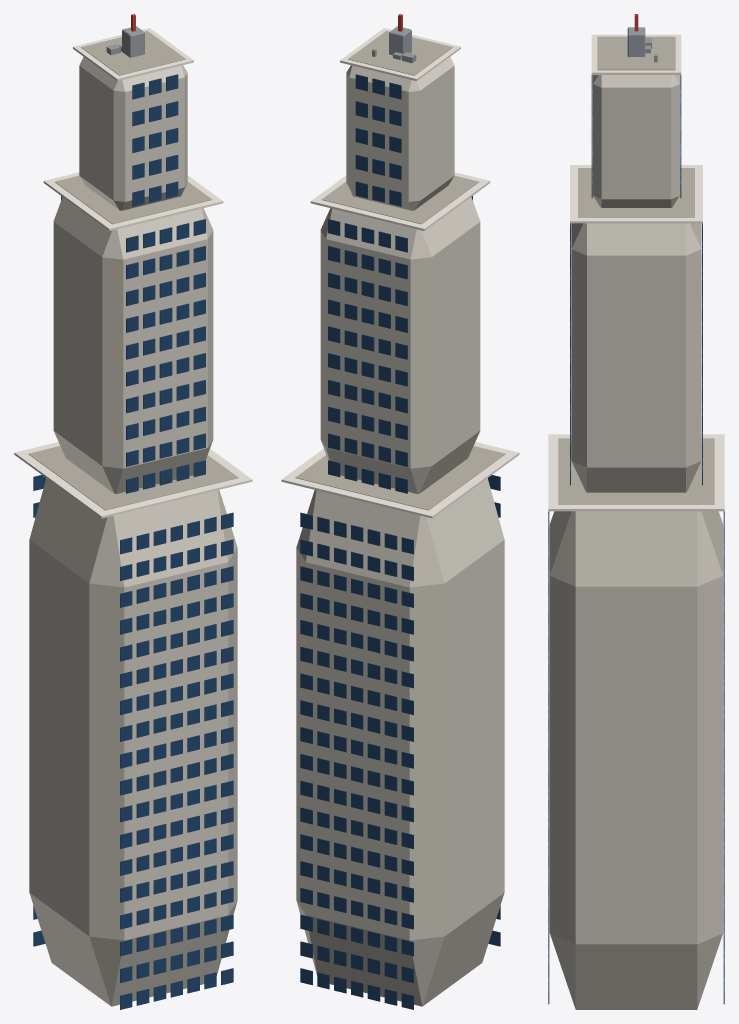
File: tower_setback_h130.glb
3 views of the same model, side by side, from view 1: azimuth 30°, elevation 25°; view 2: azimuth 150°, elevation 25°; view 3: azimuth 270°, elevation 25° (orthographic).
Parts seen in each view (by area): view 1: t1, t2, t3, tierroof, tierlip, tierroof.001, tierroof.002, tierlip.001, tierlip.002, mast; view 2: t1, t2, t3, tierroof, tierlip, tierroof.001, tierroof.002, tierlip.001, tierlip.002, mast; view 3: t1, t2, t3, tierroof, tierlip, tierroof.001, tierroof.002, tierlip.001, tierlip.002, mast.
Part boxes in pixels (x1,y1,x2,y2): t1: [29, 478, 237, 1006]; t2: [53, 197, 213, 493]; t3: [79, 56, 187, 210]; tierroof: [28, 446, 238, 510]; tierlip: [14, 442, 252, 518]; tierroof.001: [55, 175, 212, 224]; tierroof.002: [81, 31, 185, 75]; tierlip.001: [43, 172, 223, 230]; tierlip.002: [73, 28, 193, 81]; mast: [122, 26, 144, 57]; t1: [296, 478, 504, 1006]; t2: [320, 197, 480, 493]; t3: [346, 56, 454, 210]; tierroof: [295, 446, 505, 510]; tierlip: [281, 442, 519, 518]; tierroof.001: [321, 175, 478, 224]; tierroof.002: [348, 31, 452, 75]; tierlip.001: [310, 172, 490, 230]; tierlip.002: [340, 28, 460, 81]; mast: [389, 26, 411, 55]; t1: [549, 511, 723, 1009]; t2: [571, 223, 701, 492]; t3: [593, 75, 679, 207]; tierroof: [558, 438, 714, 504]; tierlip: [548, 434, 724, 511]; tierroof.001: [578, 168, 694, 217]; tierroof.002: [597, 36, 675, 70]; tierlip.001: [570, 165, 702, 223]; tierlip.002: [591, 34, 681, 74]; mast: [627, 27, 645, 56].
Size of the model in its own units: 22.4 by 136 by 22.4.
